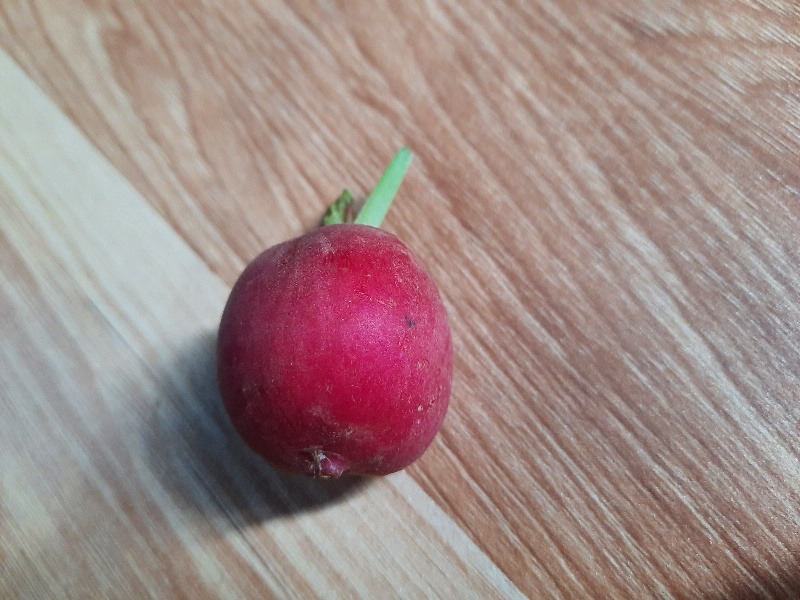vege: (201, 133, 476, 516)
